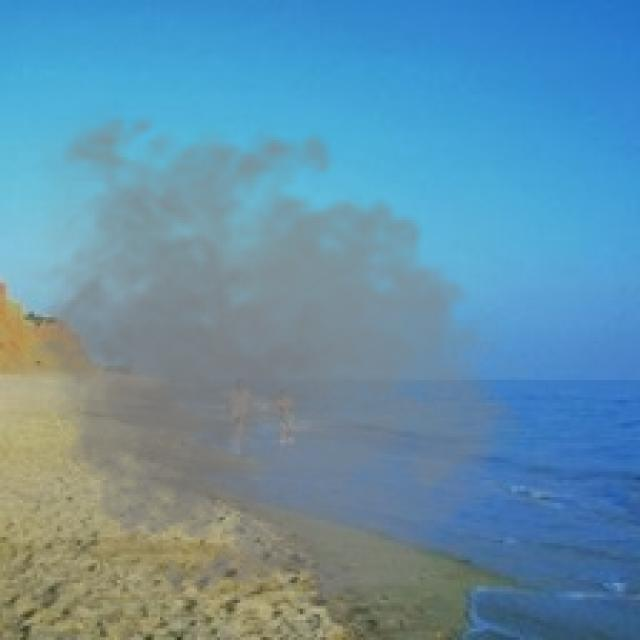smoke: (0, 100, 543, 620)
